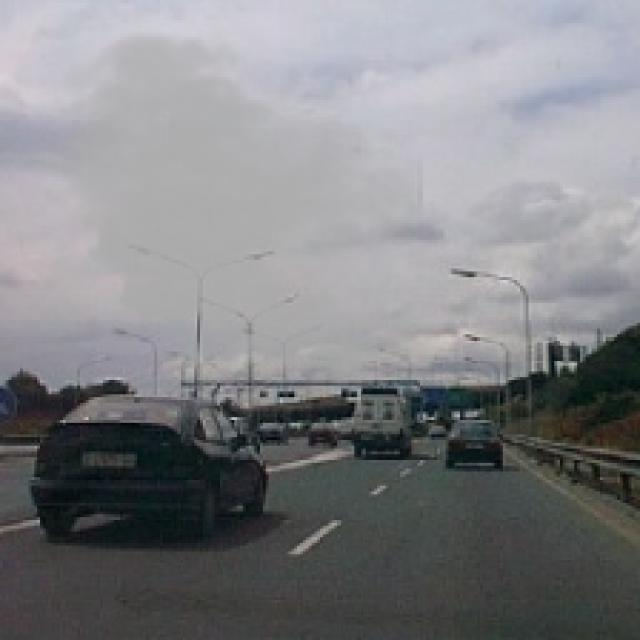smoke: (34, 23, 423, 397)
